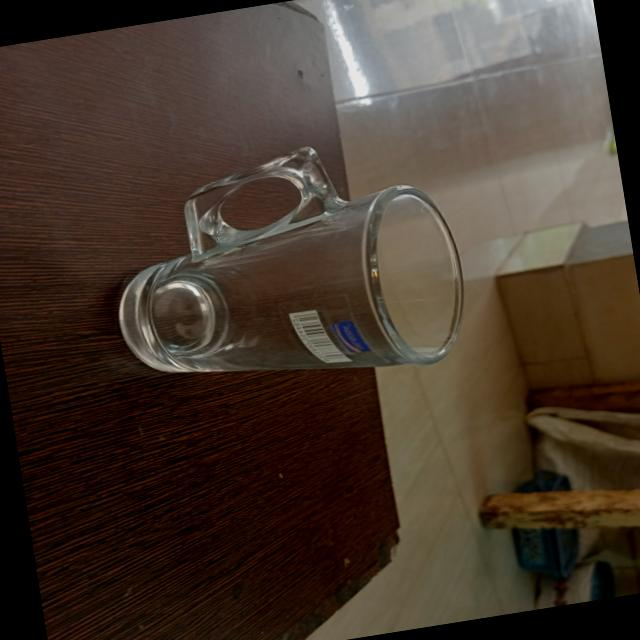glass-VX4N: (83, 124, 480, 420)
